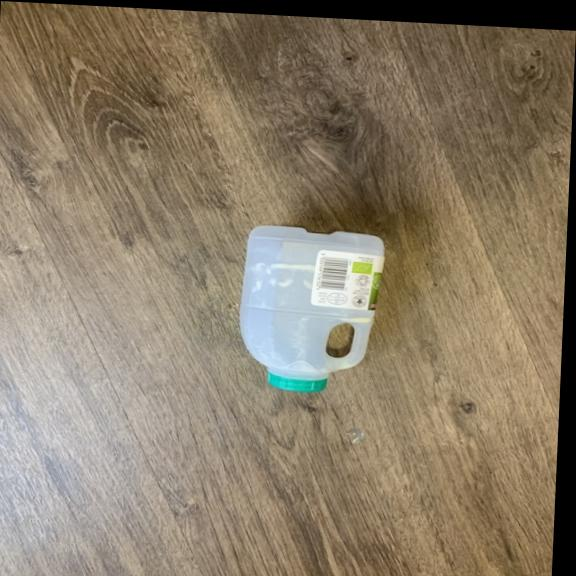Plastik: (235, 219, 389, 397)
